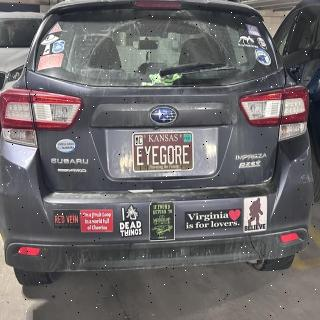license: (132, 132, 196, 175)
